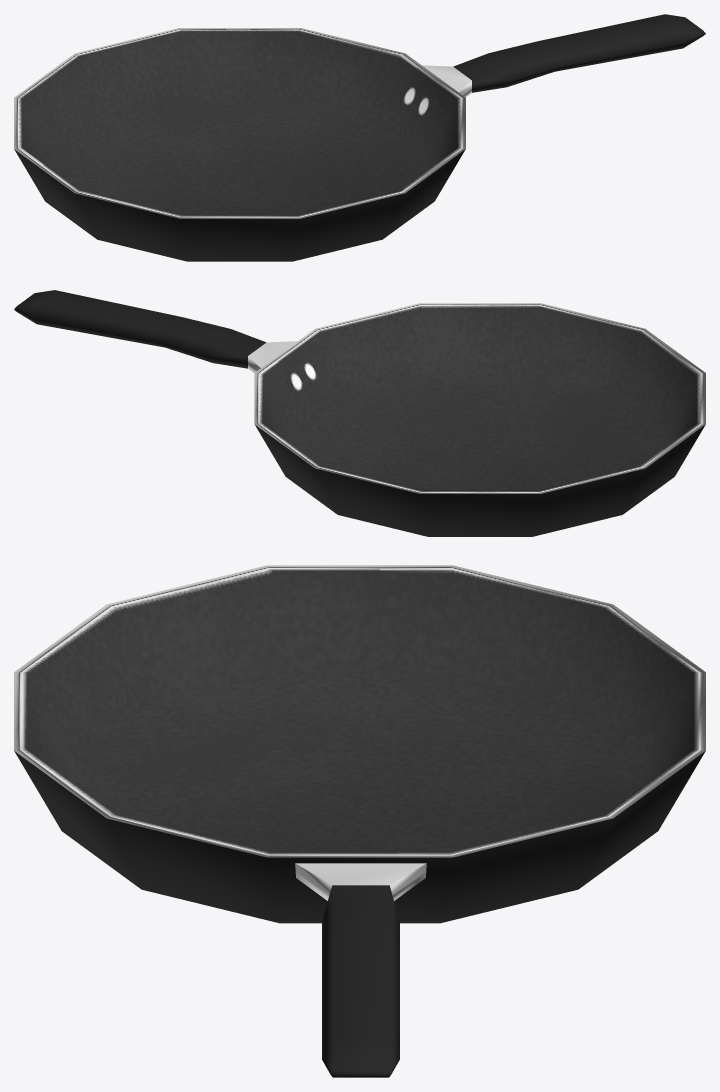
File: fryingPan_large.fbx
The picture shows the model from 3 angles, top to bottom: view 1: azimuth 30°, elevation 25°; view 2: azimuth 150°, elevation 25°; view 3: azimuth 270°, elevation 25°; orthographic projection. The views are drawn at different scales.
Parts seen in each view (by area): view 1: fryingPan_large; view 2: fryingPan_large; view 3: fryingPan_large.
Part boxes in pixels (box(x1,y1,x2,y2)): fryingPan_large: box(14, 14, 705, 261); fryingPan_large: box(14, 290, 705, 536); fryingPan_large: box(14, 565, 705, 1077).
Bounding box in the file's own units: 1.09 × 0.0901 × 0.6541.
Materials: 1 (1 with a texture image).
